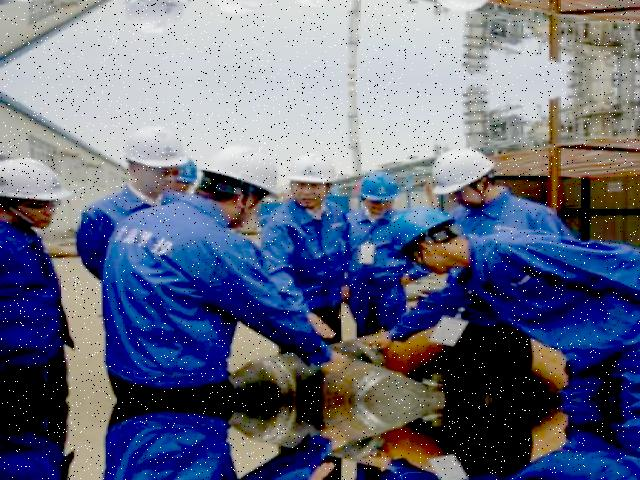Helmet: (0, 152, 74, 216), (193, 139, 281, 192), (423, 143, 502, 197), (375, 203, 463, 246), (120, 122, 192, 168), (281, 146, 342, 190), (350, 165, 402, 204)
